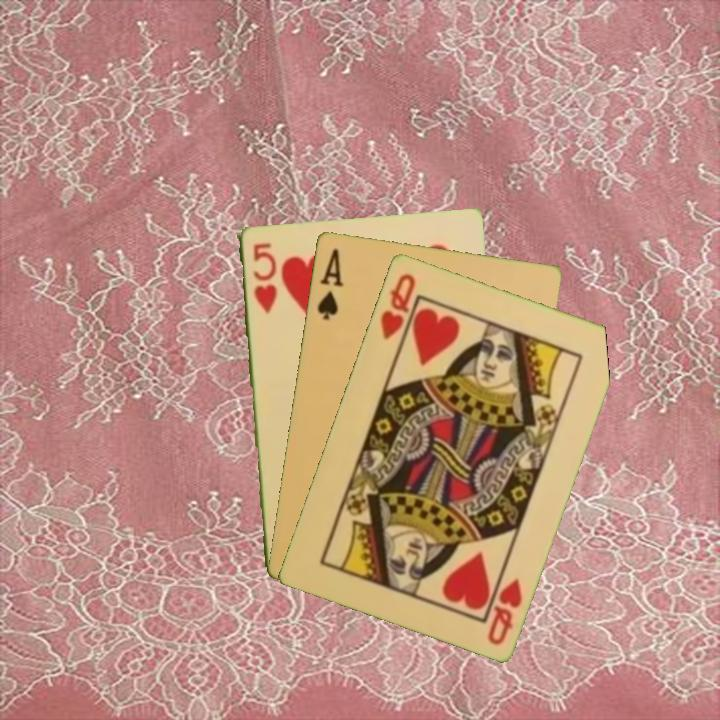5h: (249, 239, 279, 316)
As: (313, 244, 346, 322)
Qh: (376, 269, 419, 342), (483, 574, 525, 648)
